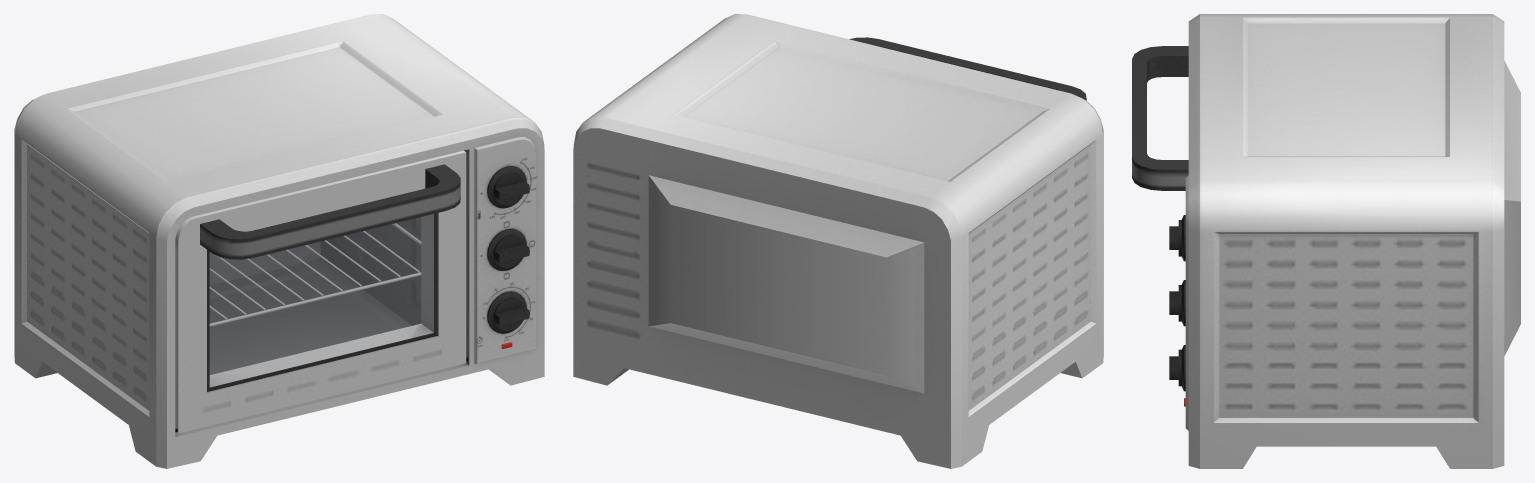
The model's file is oven.glb.
3 views of the same model, side by side, from view 1: azimuth 30°, elevation 25°; view 2: azimuth 150°, elevation 25°; view 3: azimuth 270°, elevation 25° (orthographic). The views are drawn at different scales.
Parts seen in each view (by area): view 1: Object_11, Object_13, Object_10, Object_5, Object_12, Object_7, Object_4, Object_8, Object_2, Object_3; view 2: Object_11, Object_12; view 3: Object_11, Object_12, Object_4.
Part boxes in pixels (bbox=[...]): Object_11: bbox=[14, 14, 544, 468]; Object_13: bbox=[210, 214, 433, 386]; Object_10: bbox=[175, 150, 466, 433]; Object_5: bbox=[209, 217, 421, 374]; Object_12: bbox=[200, 164, 529, 333]; Object_7: bbox=[209, 214, 433, 387]; Object_4: bbox=[200, 184, 460, 255]; Object_8: bbox=[209, 223, 421, 326]; Object_2: bbox=[207, 213, 437, 391]; Object_3: bbox=[477, 158, 536, 347]; Object_11: bbox=[573, 14, 1103, 468]; Object_12: bbox=[849, 37, 1086, 100]; Object_11: bbox=[1185, 14, 1520, 468]; Object_12: bbox=[1132, 46, 1188, 391]; Object_4: bbox=[1132, 161, 1188, 186].
Bounding box in the file's own units: 56.4 × 36.4 × 47.26.
Materials: 12 (9 with a texture image).
